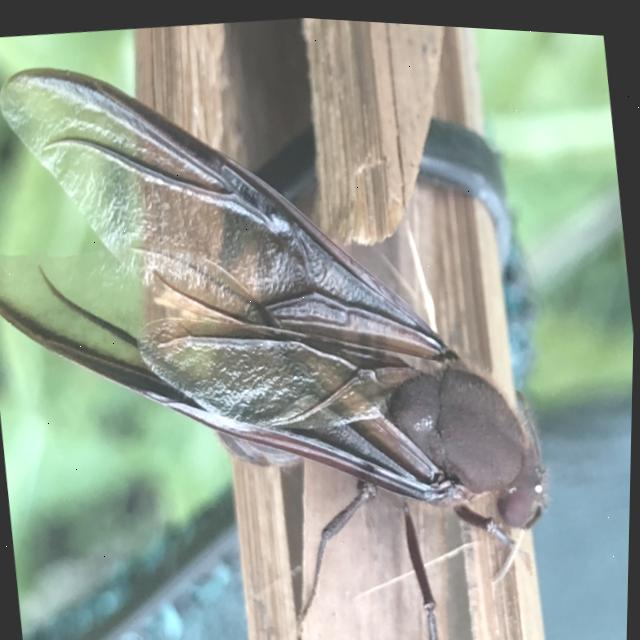Alive-Female-Alate: (0, 6, 584, 640)
